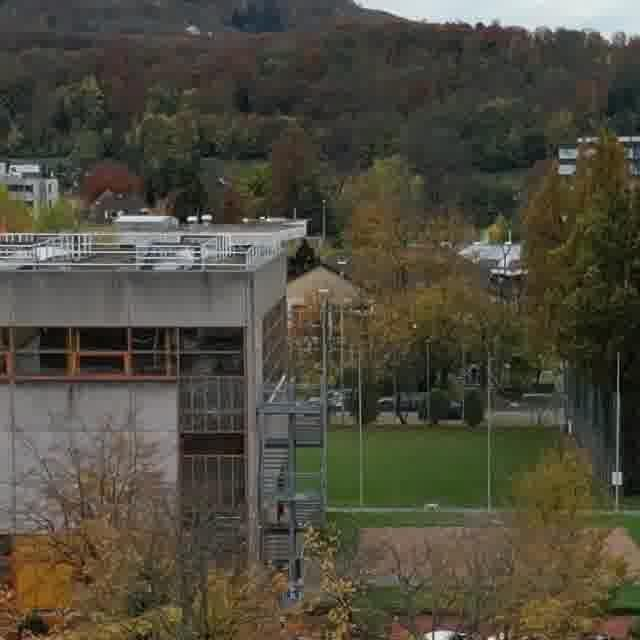Drohne: (424, 503, 438, 509)
